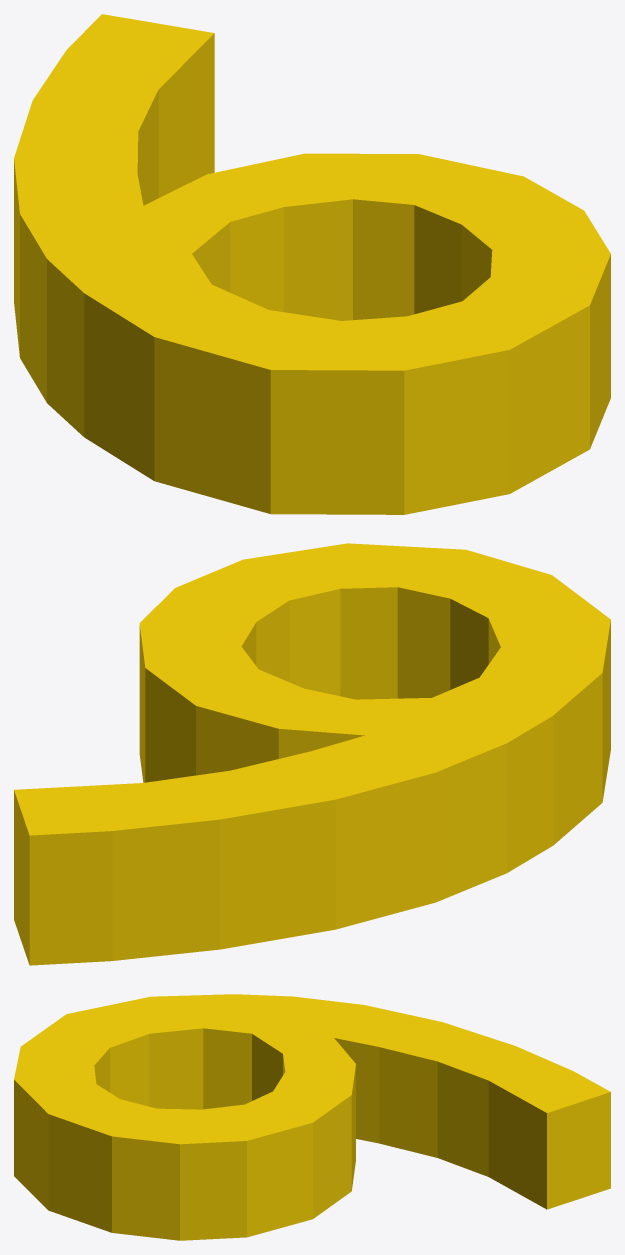
File: six.glb
3 renders of one model, top to bottom at view 1: azimuth 30°, elevation 25°; view 2: azimuth 150°, elevation 25°; view 3: azimuth 270°, elevation 25°, orthographic. The views are drawn at different scales.
Visible parts, largest first — view 1: Text.006; view 2: Text.006; view 3: Text.006.
Part boxes in pixels (bbox=[...]): Text.006: bbox=[14, 14, 610, 514]; Text.006: bbox=[14, 543, 610, 965]; Text.006: bbox=[14, 994, 610, 1240].
Bounding box in the file's own units: 0.3335 × 0.1 × 0.5606.
1 material, 1 textured.
